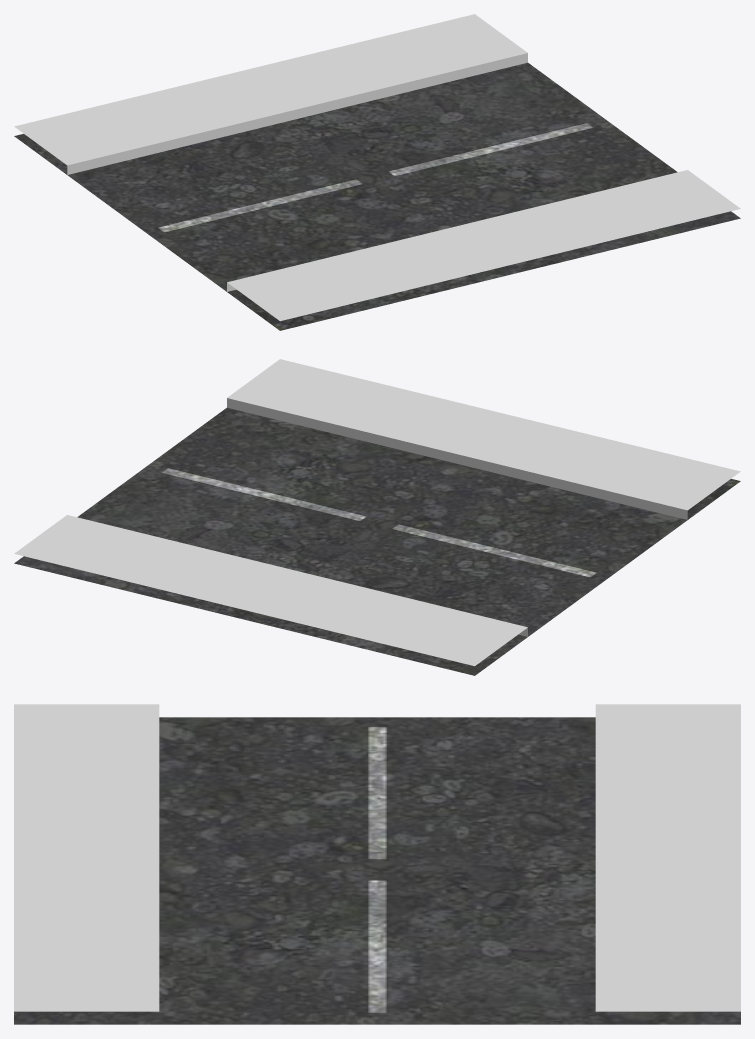
File: road4.fbx
3 views of the same model, one above another, from view 1: azimuth 30°, elevation 25°; view 2: azimuth 150°, elevation 25°; view 3: azimuth 270°, elevation 25° (orthographic). The views are drawn at different scales.
Parts seen in each view (by area): view 1: Plane.003; view 2: Plane.003; view 3: Plane.003.
Boxes of the visible parts, x1=… form: Plane.003: x1=14, y1=14, x2=740, y2=330; Plane.003: x1=14, y1=359, x2=740, y2=675; Plane.003: x1=14, y1=704, x2=740, y2=1024.
Bounding box in the file's own units: 1000 × 20 × 1000.
